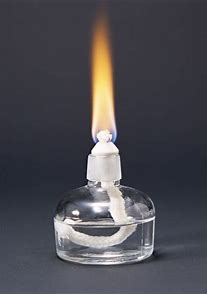Fire: (75, 20, 137, 147)
